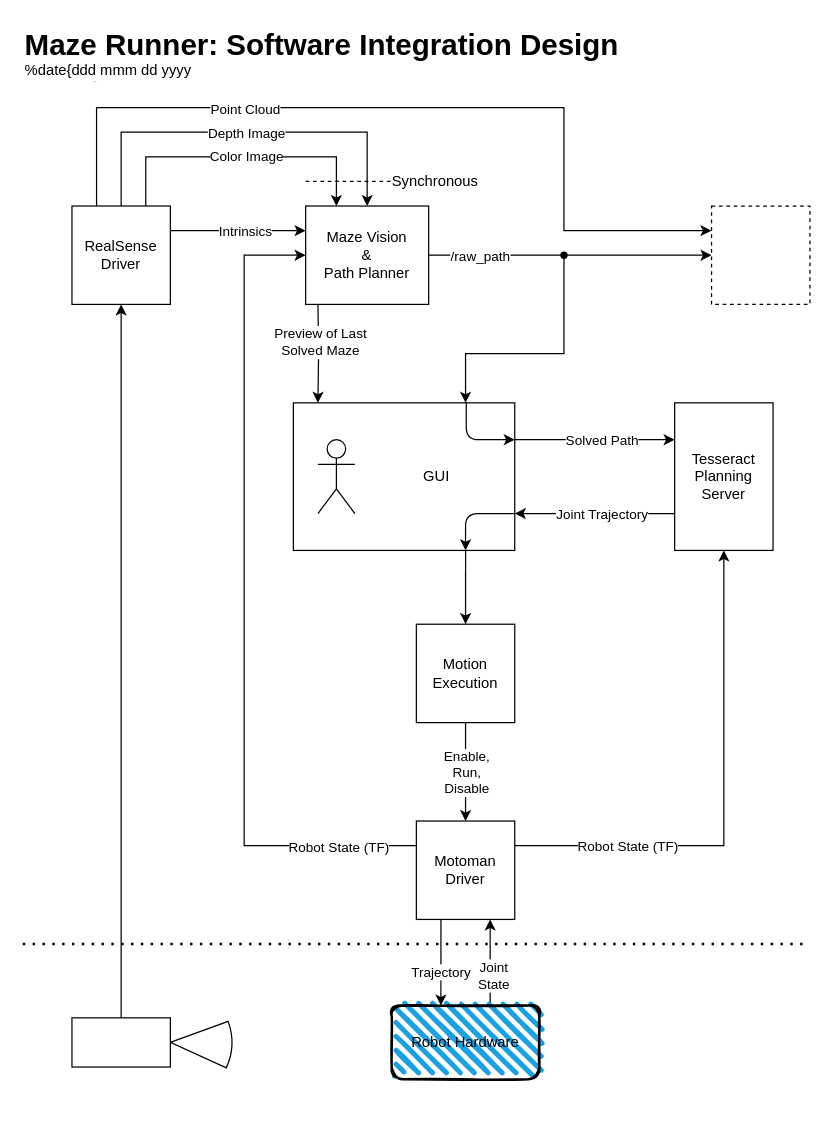
Image size: 833x1125. Some labels were removed from this diagram. The shapes that lost their labels are listed below. From the top down, each one's centre as x and y in pixels, then its label:
point 760,254: RViz Preview
point 336,476: Actor
point 120,1042: Camera
